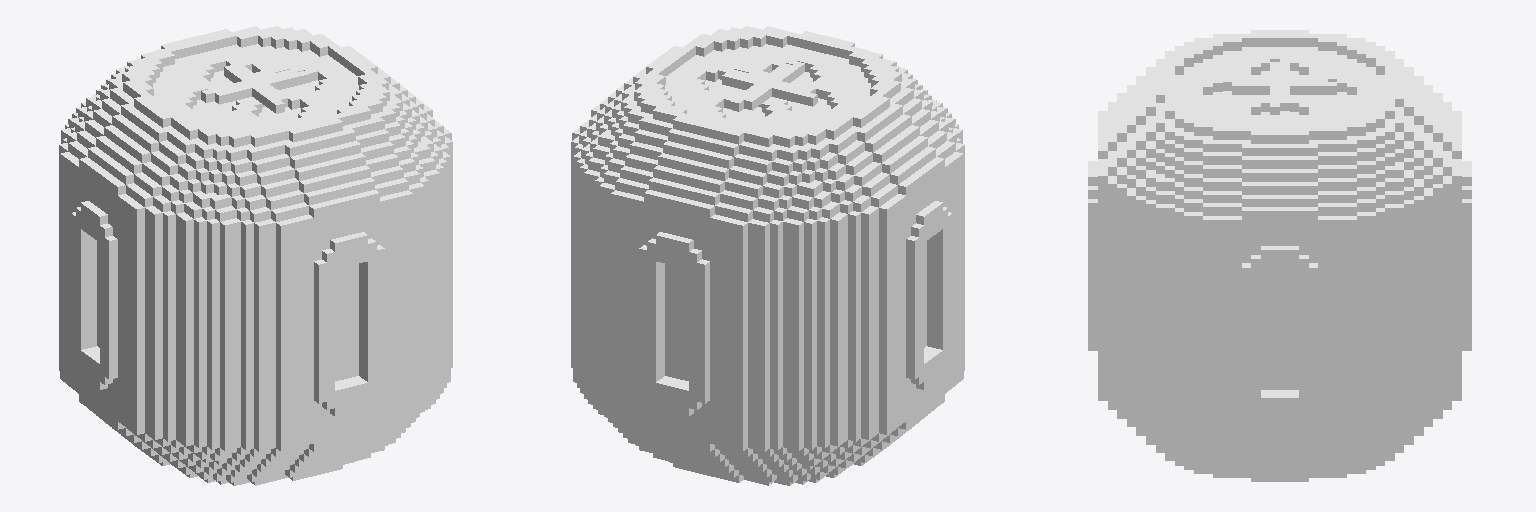
File: capsuleEye.obj
3 renders of one model, left to right at view 1: azimuth 30°, elevation 25°; view 2: azimuth 150°, elevation 25°; view 3: azimuth 270°, elevation 25°, orthographic.
Visible parts, largest first — view 1: object 1; view 2: object 1; view 3: object 1.
Boxes of the visible parts, x1=… form: object 1: x1=59, y1=26, x2=452, y2=485; object 1: x1=571, y1=26, x2=964, y2=485; object 1: x1=1088, y1=30, x2=1471, y2=481.
Bounding box in the file's own units: 4 × 4 × 4.